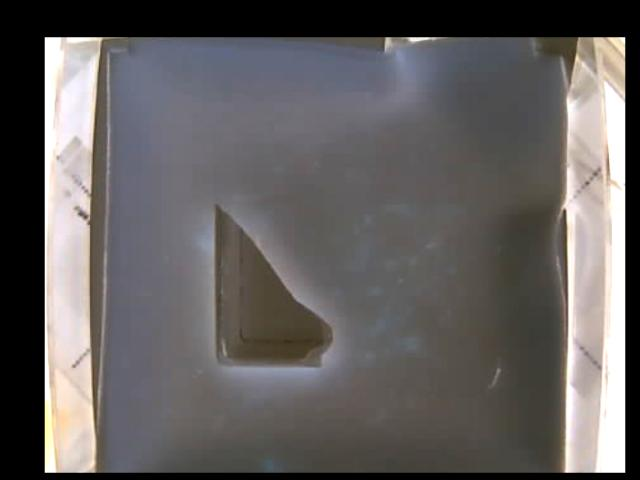China: (213, 202, 332, 366)
